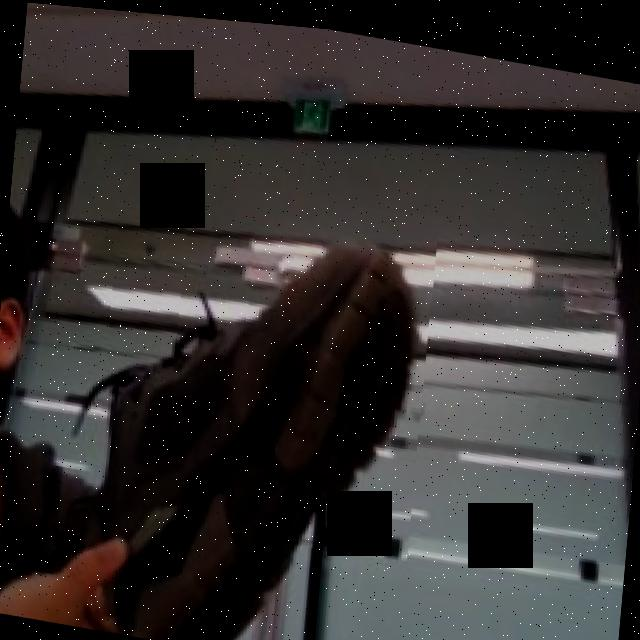shoe: (49, 160, 437, 640)
